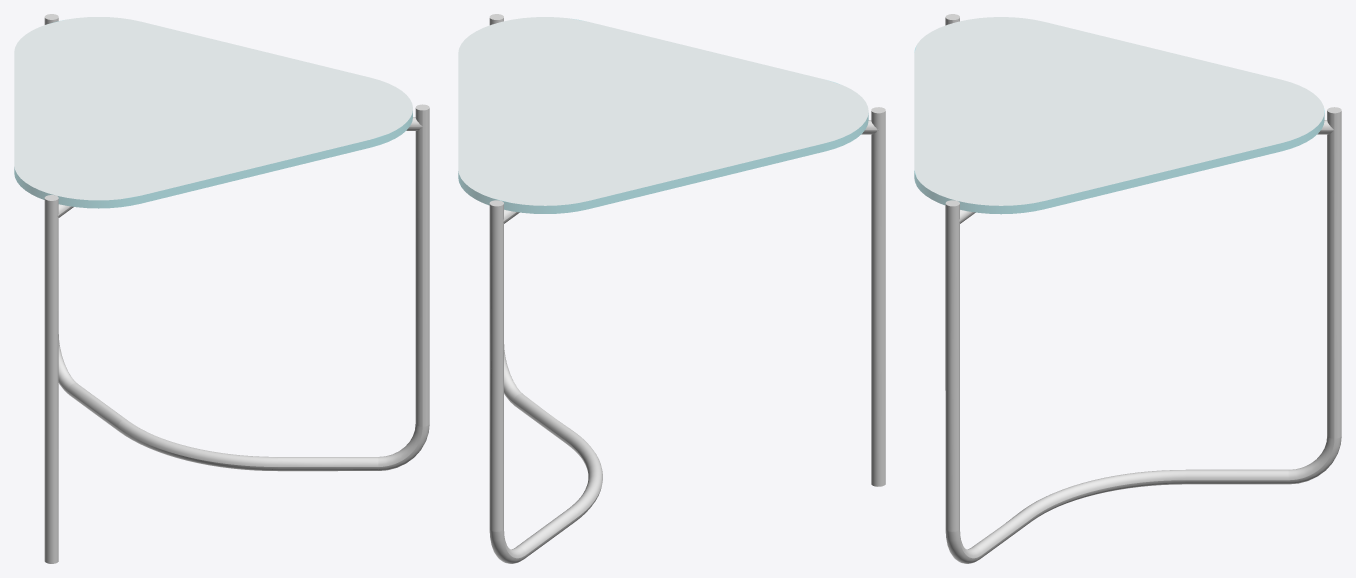
The model's file is CoolWave1_mv.glb.
3 renders of one model, left to right at view 1: azimuth 30°, elevation 25°; view 2: azimuth 150°, elevation 25°; view 3: azimuth 270°, elevation 25°, orthographic. The views are drawn at different scales.
Visible parts, largest first — view 1: CoolWave1_Top, CoolWave1_Leg; view 2: CoolWave1_Top, CoolWave1_Leg; view 3: CoolWave1_Top, CoolWave1_Leg.
Boxes of the visible parts, x1,y1,x2,y2 form: CoolWave1_Top: [14, 17, 412, 208]; CoolWave1_Leg: [44, 14, 429, 563]; CoolWave1_Top: [458, 17, 868, 213]; CoolWave1_Leg: [489, 14, 885, 563]; CoolWave1_Top: [914, 17, 1324, 214]; CoolWave1_Leg: [945, 14, 1341, 563].
Bounding box in the file's own units: 0.4974 × 0.4503 × 0.4671.
